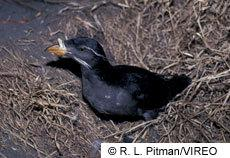008.Rhinoceros_Auklet: (43, 36, 194, 120)
